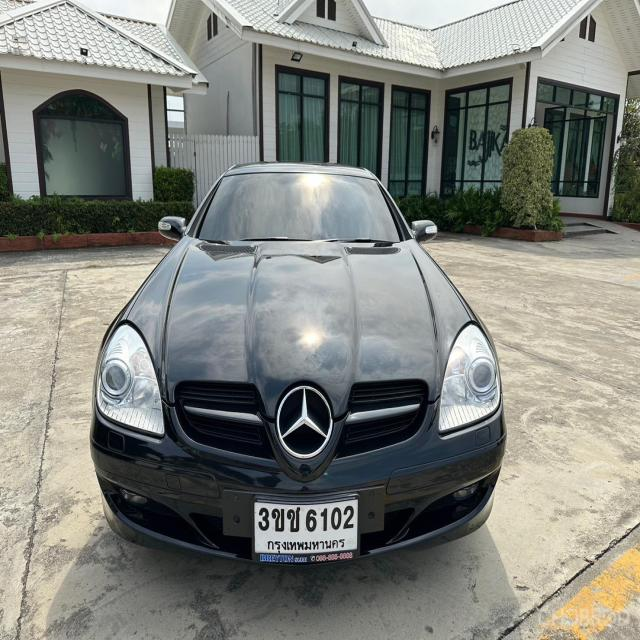license_plate: (248, 492, 365, 564)
